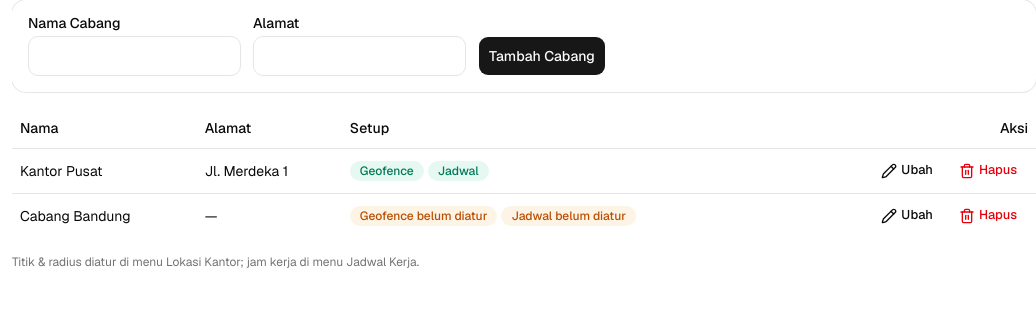
Test: BranchManager › shows the error from a failed create in an Alert
The width and height of the screenshot is (1036, 335).
Click the button "Tambah Cabang" at [542, 56], box 478,36 -> 606,76
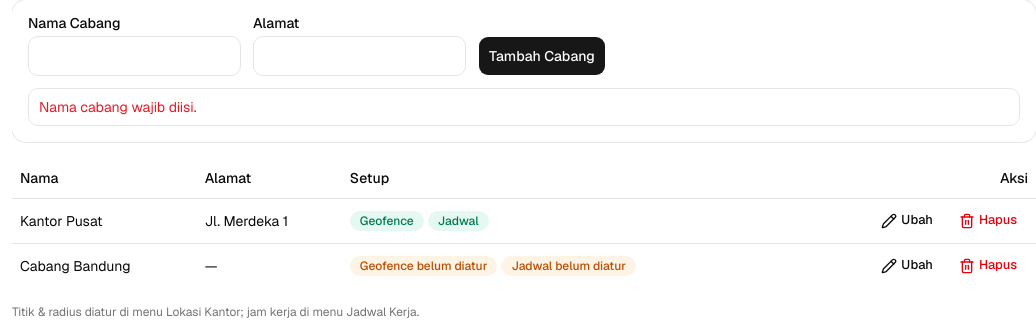
Expected: the text "Nama cabang wajib diisi." is shown, 39,98 -> 196,116
